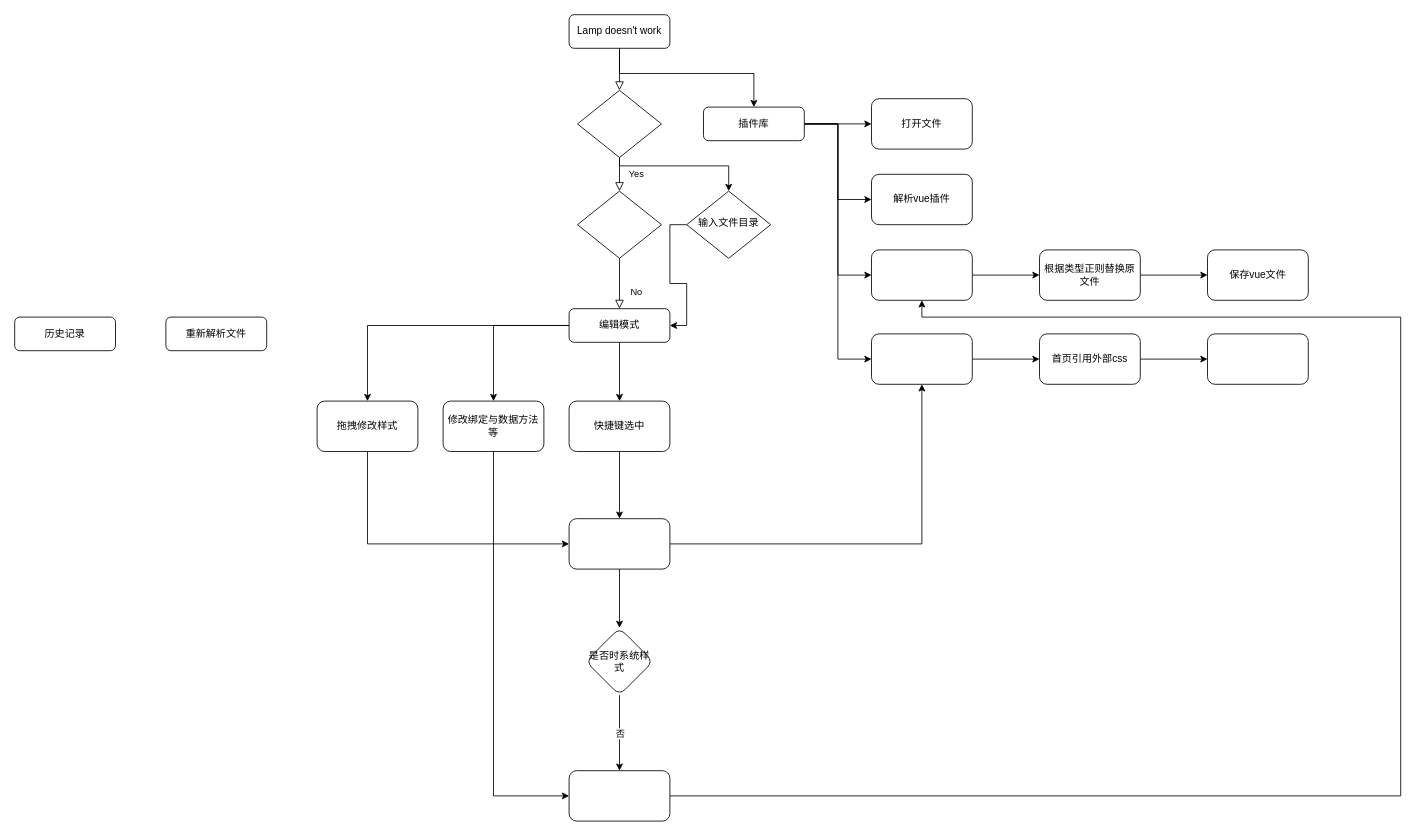
This 1422x836 diagram has some shape labels left out. Each missing label, with the centre of its shape:
"electron-web-view根据自动生成样式代码插件" belongs at point (921, 358).
"延时生成代码vue代码" belongs at point (619, 795).
"正则替换文件插件" belongs at point (921, 274).
"每次移动则根据id生成css代码" belongs at point (1257, 358).
"生成代码自动保存css" belongs at point (619, 543).
"输入端口预览" belongs at point (619, 224).
"首页" belongs at point (619, 123).
